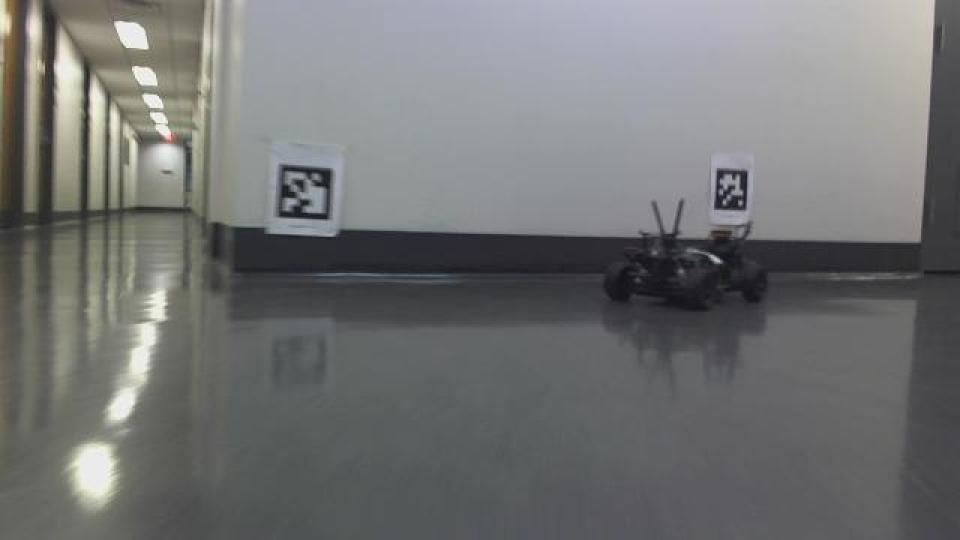car: (598, 195, 770, 313)
